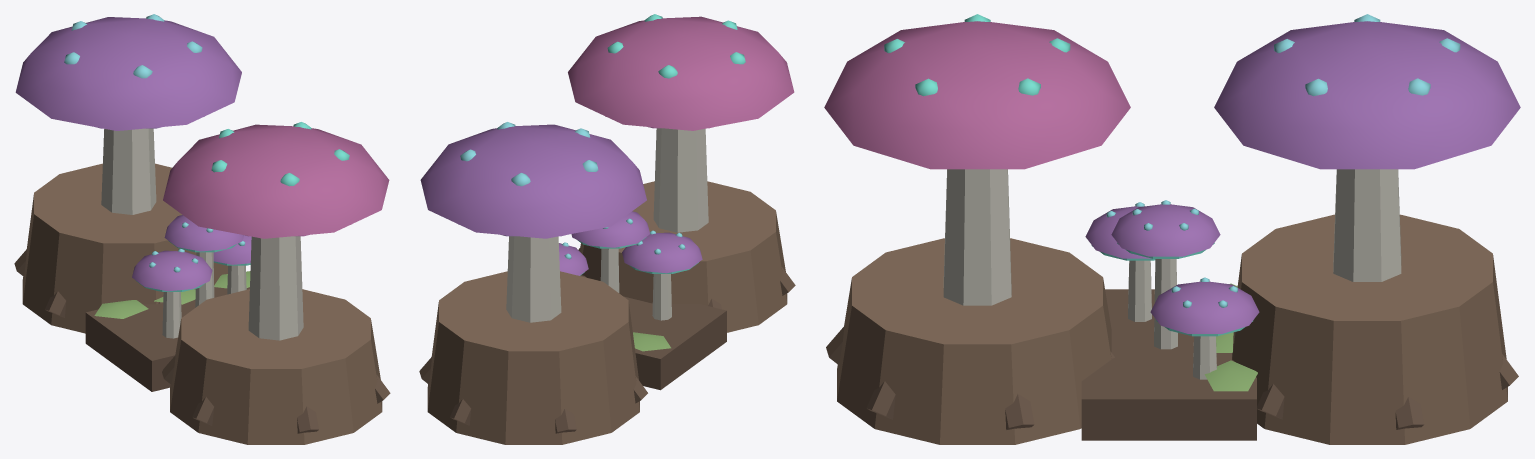
Rendered from rn2-floresta-amb.glb.
3 views of the same model, side by side, from view 1: azimuth 30°, elevation 25°; view 2: azimuth 150°, elevation 25°; view 3: azimuth 270°, elevation 25° (orthographic). The views are drawn at different scales.
Visible parts, largest first — view 1: rn2_floresta_amb_body, rn2_floresta_amb_glow; view 2: rn2_floresta_amb_body, rn2_floresta_amb_glow; view 3: rn2_floresta_amb_body, rn2_floresta_amb_glow.
Boxes of the visible parts, bbox=[...] form: rn2_floresta_amb_body: bbox=[14, 17, 390, 444]; rn2_floresta_amb_glow: bbox=[64, 14, 349, 291]; rn2_floresta_amb_body: bbox=[419, 16, 795, 444]; rn2_floresta_amb_glow: bbox=[458, 14, 745, 275]; rn2_floresta_amb_body: bbox=[824, 21, 1520, 444]; rn2_floresta_amb_glow: bbox=[884, 14, 1460, 336].
Bounding box in the file's own units: 2.29 × 2.89 × 5.36.
